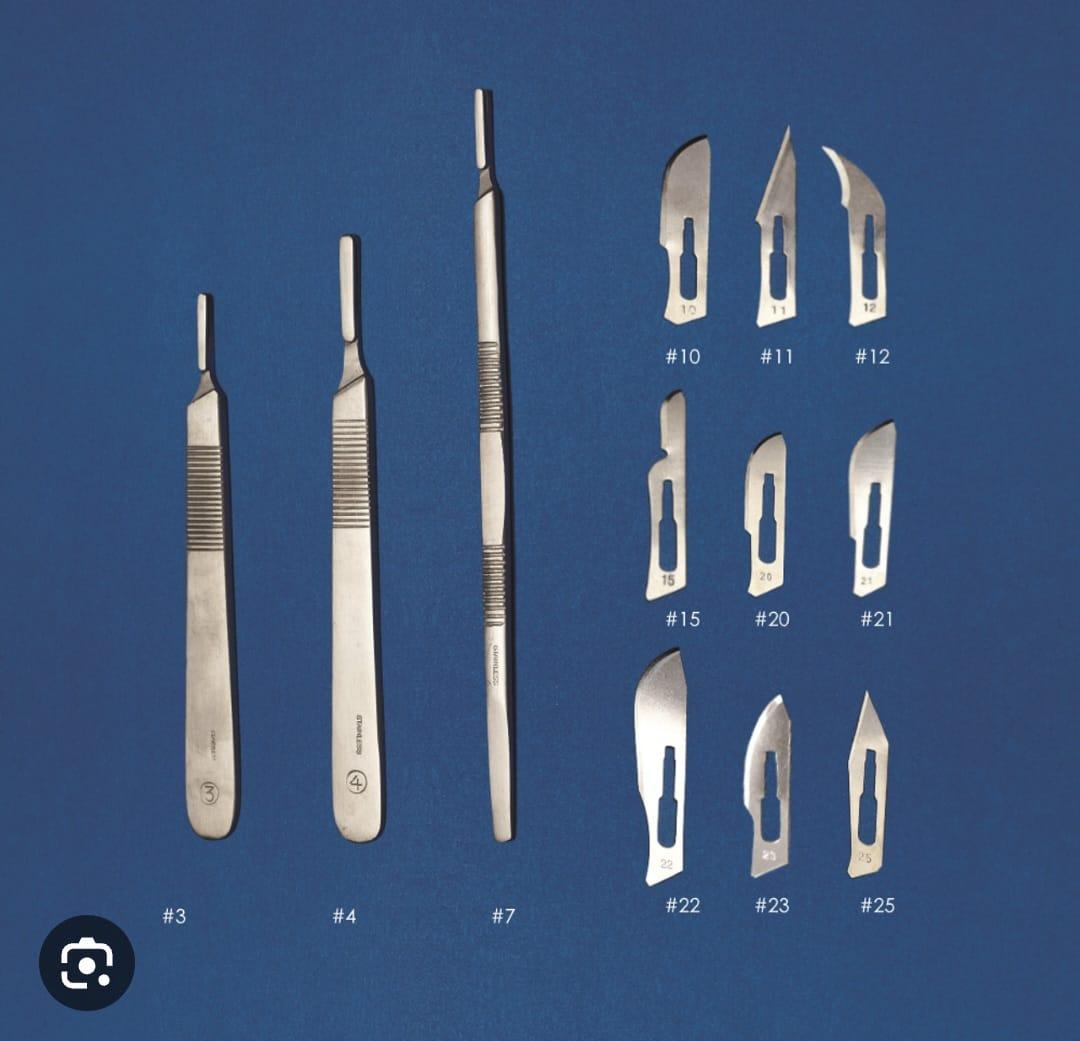Knife Blade: (610, 650, 708, 900), (820, 132, 932, 335), (627, 133, 733, 330), (628, 388, 713, 617), (738, 685, 820, 888), (838, 415, 925, 600), (837, 685, 912, 885), (732, 432, 802, 608), (757, 125, 805, 337)
Knife Handle: (447, 67, 565, 868), (143, 275, 278, 857), (297, 220, 405, 860)
